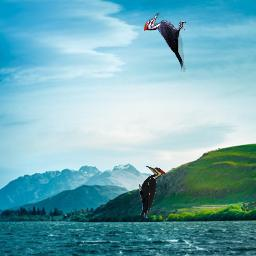Woodpecker: (144, 13, 186, 72), (139, 165, 167, 218)
